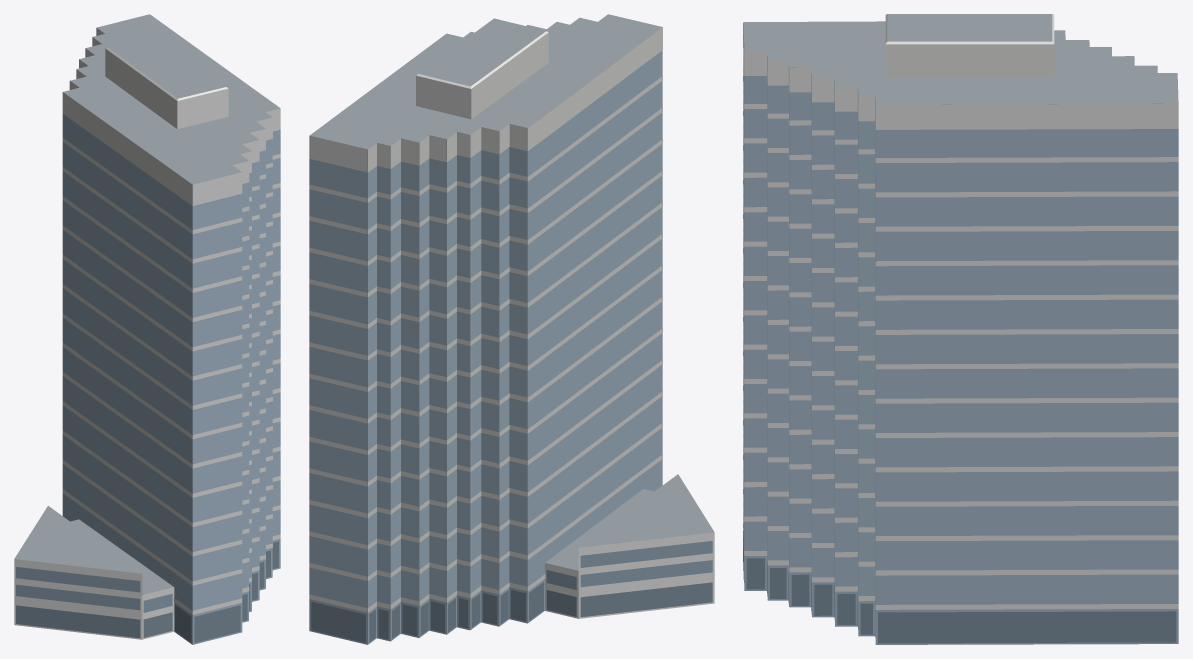
Rendered from jax-everbank-center.glb.
The picture shows the model from 3 angles, left to right: view 1: azimuth 30°, elevation 25°; view 2: azimuth 150°, elevation 25°; view 3: azimuth 270°, elevation 25°; orthographic projection. The views are drawn at different scales.
Parts seen in each view (by area): view 1: EverBank Center; view 2: EverBank Center; view 3: EverBank Center.
Boxes of the visible parts, x1,y1,x2,y2 form: EverBank Center: [14, 14, 280, 644]; EverBank Center: [309, 14, 714, 644]; EverBank Center: [743, 14, 1178, 644].
Size of the model in its own units: 75.58 by 137 by 94.22.
